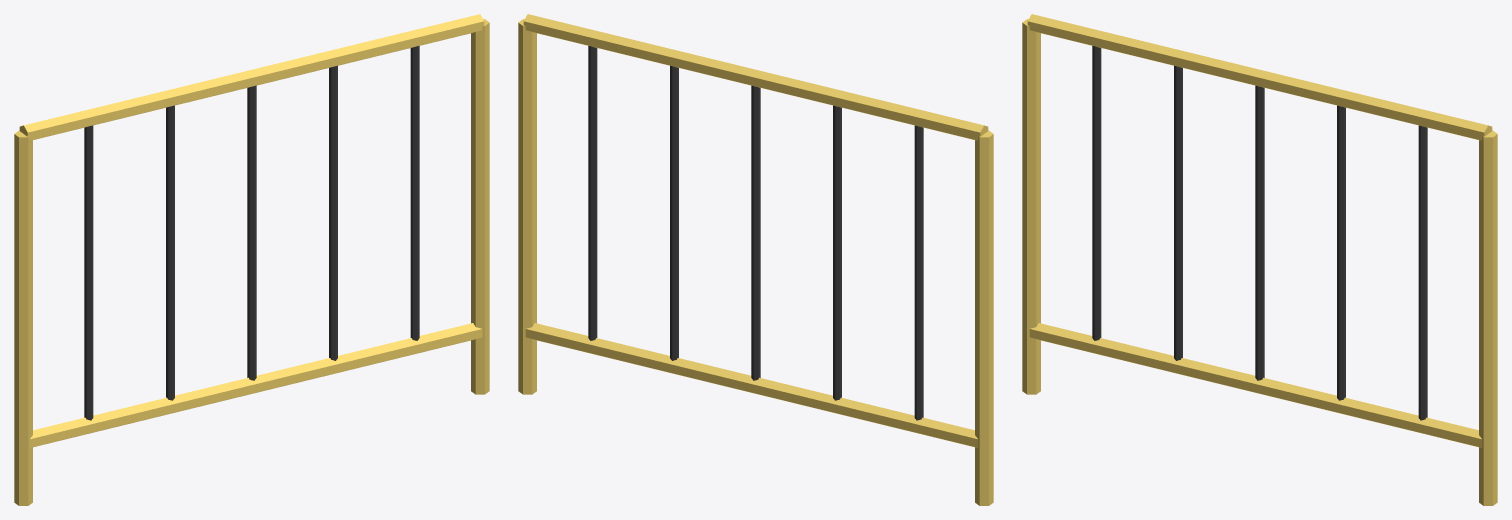
3 views of the same model, side by side, from view 1: azimuth 30°, elevation 25°; view 2: azimuth 150°, elevation 25°; view 3: azimuth 330°, elevation 25° (orthographic).
Parts seen in each view (by area): view 1: Rail.001, Rail, Upright, Upright.001, Guard bar, Guard bar.002, Guard bar.004, Guard bar.001, Guard bar.003; view 2: Rail.001, Rail, Upright, Upright.001, Guard bar, Guard bar.002, Guard bar.004, Guard bar.001, Guard bar.003; view 3: Rail.001, Rail, Upright.001, Upright, Guard bar.002, Guard bar.004, Guard bar, Guard bar.003, Guard bar.001.
Part boxes in pixels (<box>): Rail.001: <box>19,14,484,140</box>; Rail: <box>29,323,482,447</box>; Upright: <box>14,130,32,505</box>; Upright.001: <box>471,19,489,394</box>; Guard bar: <box>84,125,93,420</box>; Guard bar.002: <box>247,85,256,380</box>; Guard bar.004: <box>410,46,419,340</box>; Guard bar.001: <box>166,105,174,400</box>; Guard bar.003: <box>329,65,337,360</box>; Rail.001: <box>523,14,988,140</box>; Rail: <box>525,323,978,447</box>; Upright: <box>975,130,993,505</box>; Upright.001: <box>518,19,536,394</box>; Guard bar: <box>914,125,923,420</box>; Guard bar.002: <box>751,85,760,380</box>; Guard bar.004: <box>588,46,597,340</box>; Guard bar.001: <box>833,105,841,400</box>; Guard bar.003: <box>670,65,678,360</box>; Rail.001: <box>1027,14,1492,140</box>; Rail: <box>1029,323,1482,447</box>; Upright.001: <box>1479,130,1497,505</box>; Upright: <box>1022,19,1040,394</box>; Guard bar.002: <box>1255,85,1264,380</box>; Guard bar.004: <box>1418,125,1427,420</box>; Guard bar: <box>1092,46,1101,340</box>; Guard bar.003: <box>1337,105,1345,400</box>; Guard bar.001: <box>1174,65,1182,360</box>.
Bounding box in the file's own units: 144 × 111 × 5.
